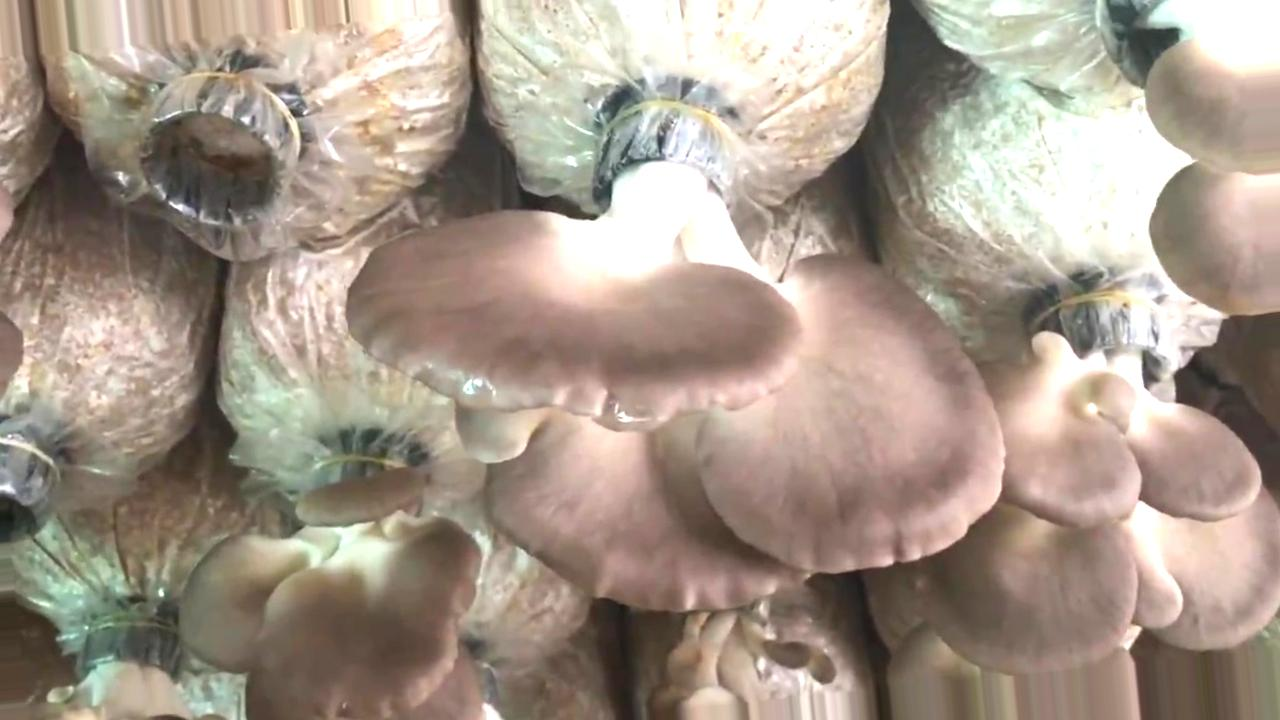nam: (347, 102, 1002, 612), (889, 286, 1280, 673), (184, 459, 481, 719), (1092, 1, 1280, 318)
